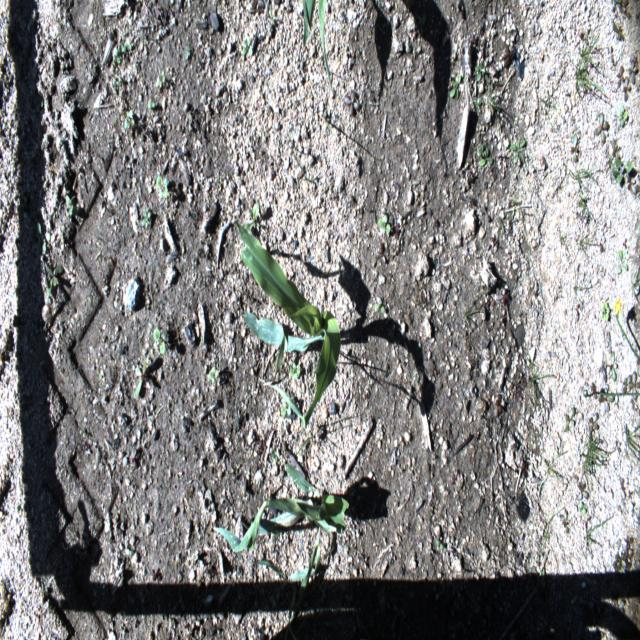crop: (230, 214, 341, 428), (212, 465, 349, 551), (247, 523, 320, 638), (301, 0, 332, 95)
weed: (561, 32, 608, 102), (578, 425, 616, 492), (526, 356, 558, 410), (584, 518, 612, 566), (568, 164, 603, 192), (239, 202, 259, 240), (625, 422, 639, 465), (611, 158, 632, 184), (134, 358, 146, 399), (622, 372, 640, 399), (593, 112, 608, 144), (598, 384, 614, 412), (510, 136, 525, 163), (477, 144, 493, 166), (153, 329, 167, 354), (449, 74, 461, 101), (563, 407, 575, 432), (617, 248, 628, 274), (607, 351, 616, 381), (207, 365, 220, 385), (157, 175, 168, 198), (378, 215, 390, 235), (475, 60, 485, 82), (600, 302, 610, 322), (619, 105, 628, 127), (290, 363, 300, 380)
